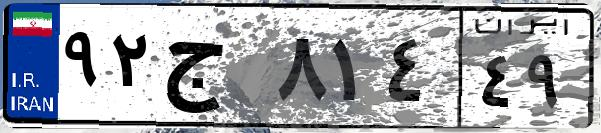1: (330, 28, 385, 110)
2: (110, 28, 158, 98)
4: (385, 28, 445, 110), (475, 38, 525, 113)
8: (270, 28, 330, 110)
9: (57, 26, 110, 100), (525, 38, 570, 115)
ج: (158, 20, 270, 120)
